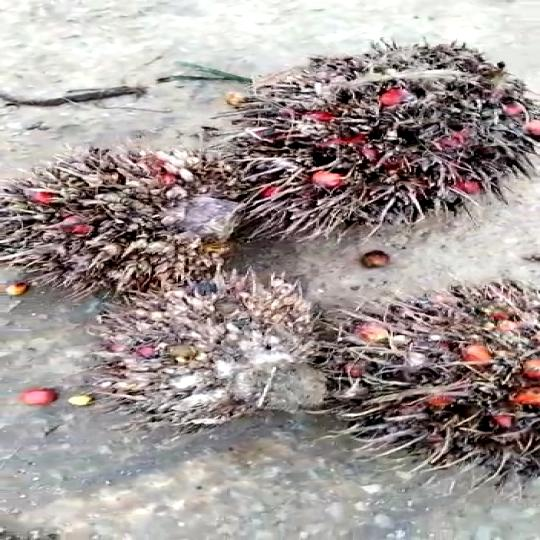terlalu masak: (207, 37, 540, 225), (75, 275, 340, 434), (0, 155, 258, 292)
